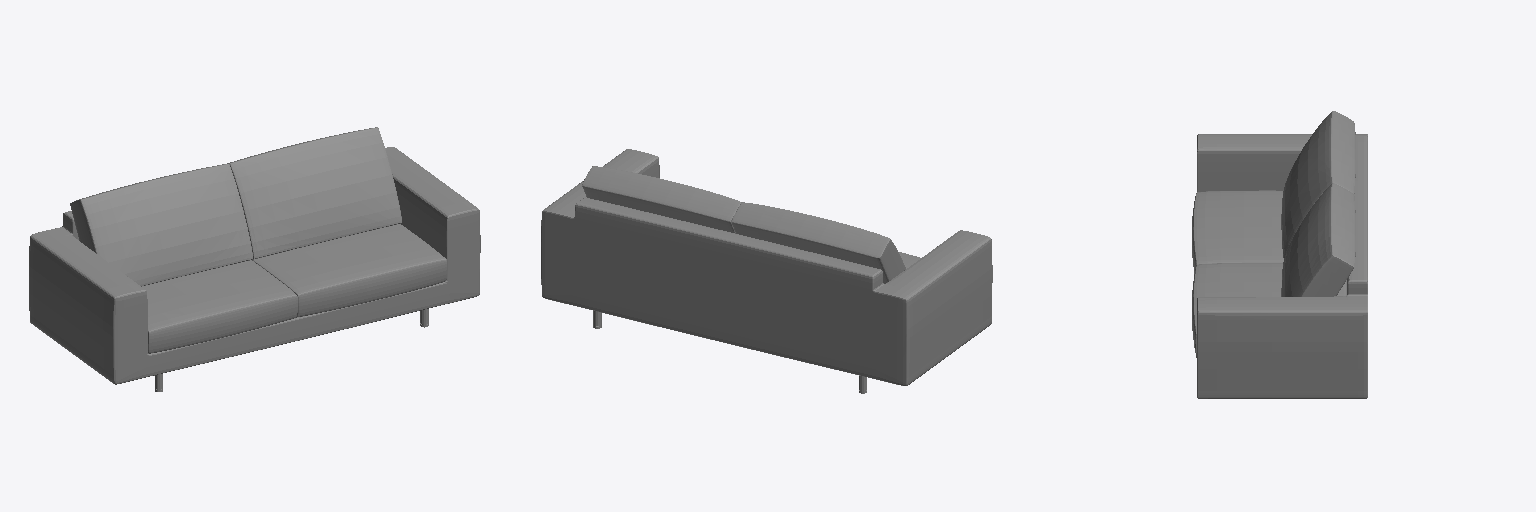
The model's file is couch.obj.
The picture shows the model from 3 angles: view 1: azimuth 30°, elevation 25°; view 2: azimuth 150°, elevation 25°; view 3: azimuth 270°, elevation 25°; orthographic projection.
Visible parts, largest first — view 1: polo; view 2: polo; view 3: polo.
Boxes of the visible parts, x1=… form: polo: x1=29, y1=127, x2=480, y2=391; polo: x1=541, y1=149, x2=992, y2=393; polo: x1=1192, y1=111, x2=1367, y2=398.
Bounding box in the file's own units: 78.74 × 31.06 × 32.73.